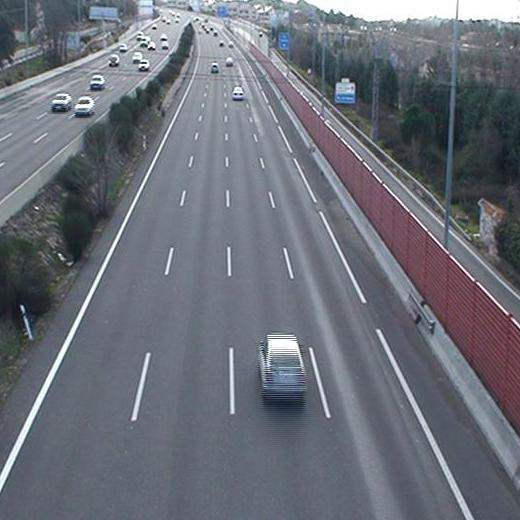car: (256, 334, 308, 398), (233, 83, 245, 100), (209, 62, 220, 74), (226, 56, 234, 66)
